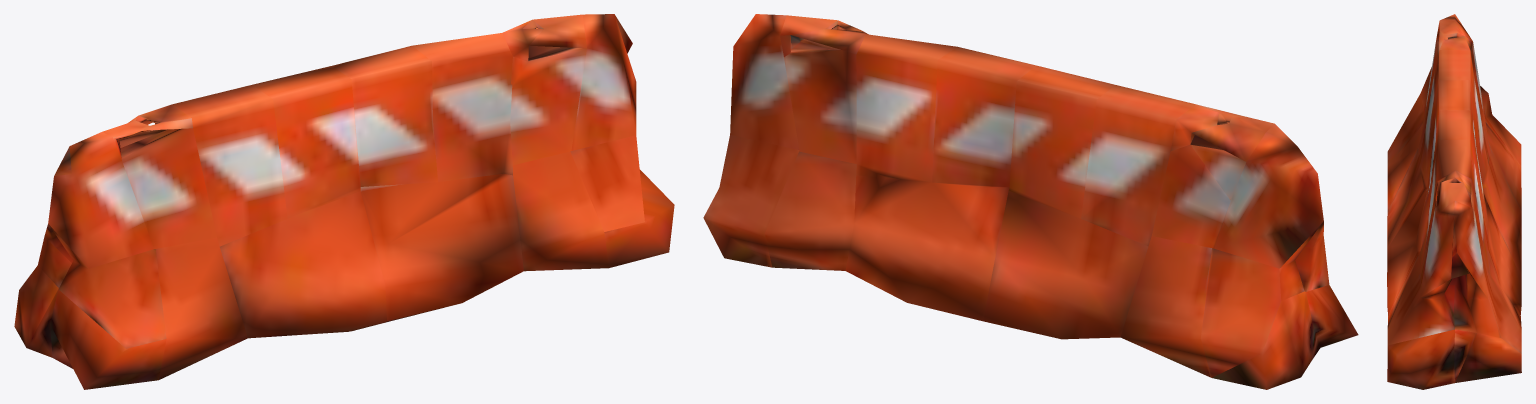
The model's file is barreira-plastica_lod1.glb.
3 renders of one model, left to right at view 1: azimuth 30°, elevation 25°; view 2: azimuth 150°, elevation 25°; view 3: azimuth 270°, elevation 25°, orthographic. The views are drawn at different scales.
Visible parts, largest first — view 1: tripo_node_9a6e7fca-7c28-44ce-9eb0-44e4d699fbc1; view 2: tripo_node_9a6e7fca-7c28-44ce-9eb0-44e4d699fbc1; view 3: tripo_node_9a6e7fca-7c28-44ce-9eb0-44e4d699fbc1.
Part boxes in pixels (box(x1,y1,x2,y2)): tripo_node_9a6e7fca-7c28-44ce-9eb0-44e4d699fbc1: box(14, 14, 674, 389); tripo_node_9a6e7fca-7c28-44ce-9eb0-44e4d699fbc1: box(703, 14, 1358, 389); tripo_node_9a6e7fca-7c28-44ce-9eb0-44e4d699fbc1: box(1387, 14, 1521, 389).
Size of the model in its own units: 1.8 by 0.6554 by 0.4626.
Materials: 1 (1 with a texture image).
